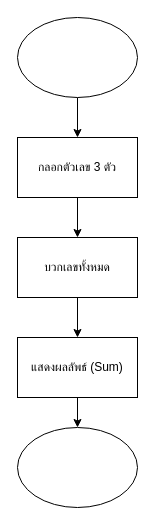
This 155x525 diagram has some shape labels left out. The shapes that lost their labels are listed below. From the top down, each one's centre as x and y in pixels, then its label:
At (77,57): "Start".
At (77,467): "End".
